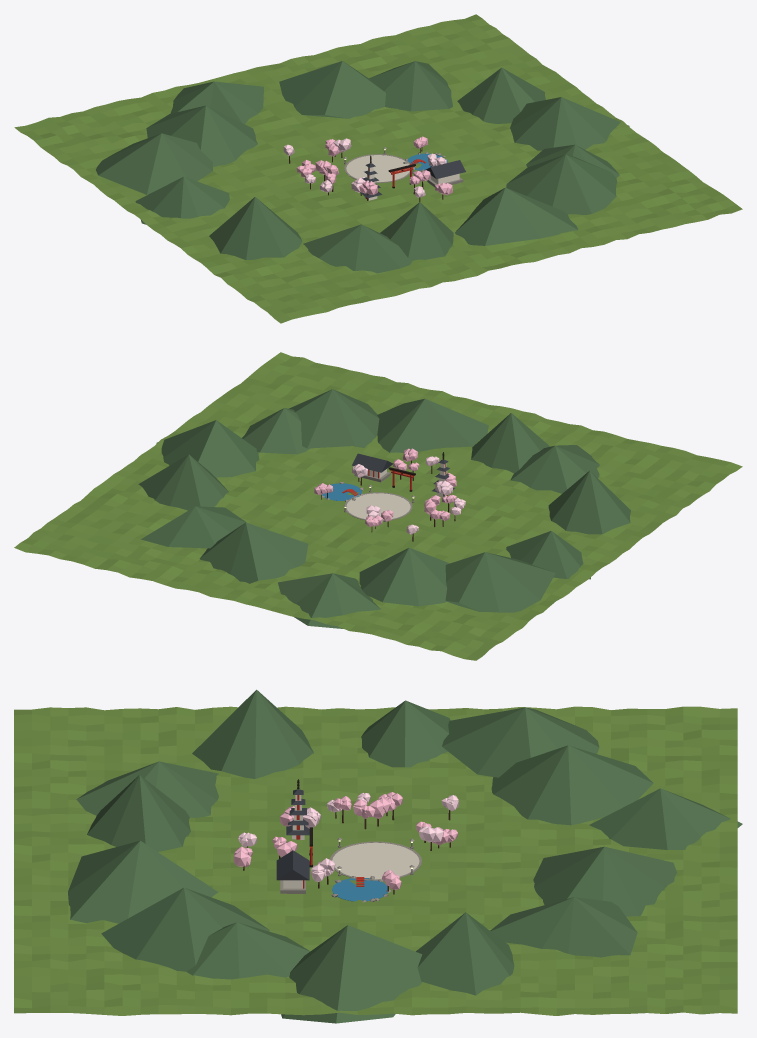
File: Escenario_Kioto.fbx
3 renders of one model, top to bottom at view 1: azimuth 30°, elevation 25°; view 2: azimuth 150°, elevation 25°; view 3: azimuth 270°, elevation 25°, orthographic. The views are drawn at different scales.
Visible parts, largest first — view 1: Escenario_Kioto_Musgo, Escenario_Kioto_Monte, Escenario_Kioto_Sakura, Escenario_Kioto_Grava, Escenario_Kioto_SakuraClaro, Escenario_Kioto_Tejado; view 2: Escenario_Kioto_Musgo, Escenario_Kioto_Monte, Escenario_Kioto_Sakura, Escenario_Kioto_Grava, Escenario_Kioto_SakuraClaro, Escenario_Kioto_Tejado; view 3: Escenario_Kioto_Musgo, Escenario_Kioto_Monte, Escenario_Kioto_Sakura, Escenario_Kioto_Grava, Escenario_Kioto_SakuraClaro, Escenario_Kioto_Tejado, Escenario_Kioto_Agua, Escenario_Kioto_Piedra.
Boxes of the visible parts, <box> form: Escenario_Kioto_Musgo: <box>14,14,742,323</box>; Escenario_Kioto_Monte: <box>96,61,629,273</box>; Escenario_Kioto_Sakura: <box>296,136,452,195</box>; Escenario_Kioto_Grava: <box>346,155,409,181</box>; Escenario_Kioto_SakuraClaro: <box>283,138,446,197</box>; Escenario_Kioto_Tejado: <box>360,160,465,198</box>; Escenario_Kioto_Musgo: <box>14,352,742,660</box>; Escenario_Kioto_Monte: <box>138,389,630,628</box>; Escenario_Kioto_Sakura: <box>314,448,456,526</box>; Escenario_Kioto_Grava: <box>346,493,410,519</box>; Escenario_Kioto_SakuraClaro: <box>352,456,465,534</box>; Escenario_Kioto_Tejado: <box>352,453,454,493</box>; Escenario_Kioto_Musgo: <box>14,706,737,1015</box>; Escenario_Kioto_Monte: <box>68,689,742,1023</box>; Escenario_Kioto_Sakura: <box>233,792,457,889</box>; Escenario_Kioto_Grava: <box>332,842,419,879</box>; Escenario_Kioto_SakuraClaro: <box>238,793,459,881</box>; Escenario_Kioto_Tejado: <box>276,789,309,880</box>; Escenario_Kioto_Agua: <box>332,878,387,901</box>; Escenario_Kioto_Piedra: <box>280,837,421,902</box>.
Size of the model in its own units: 142 by 17 by 141.
